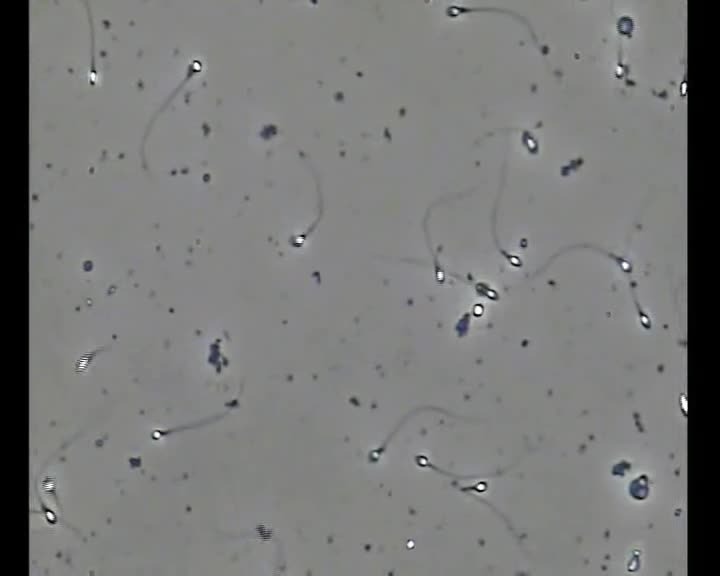spermhead: (628, 474, 650, 501), (474, 282, 499, 300), (460, 479, 487, 494), (616, 16, 634, 38), (521, 130, 538, 153), (625, 550, 641, 574), (502, 251, 522, 268), (614, 255, 632, 273), (446, 4, 469, 18), (41, 475, 56, 495), (187, 58, 203, 75), (414, 453, 431, 468), (434, 261, 445, 283), (290, 232, 306, 247), (43, 507, 57, 524), (638, 311, 651, 329), (368, 447, 383, 462), (615, 61, 628, 78), (151, 428, 168, 440), (679, 392, 687, 417), (472, 302, 484, 317), (88, 68, 98, 85), (679, 77, 686, 96)
